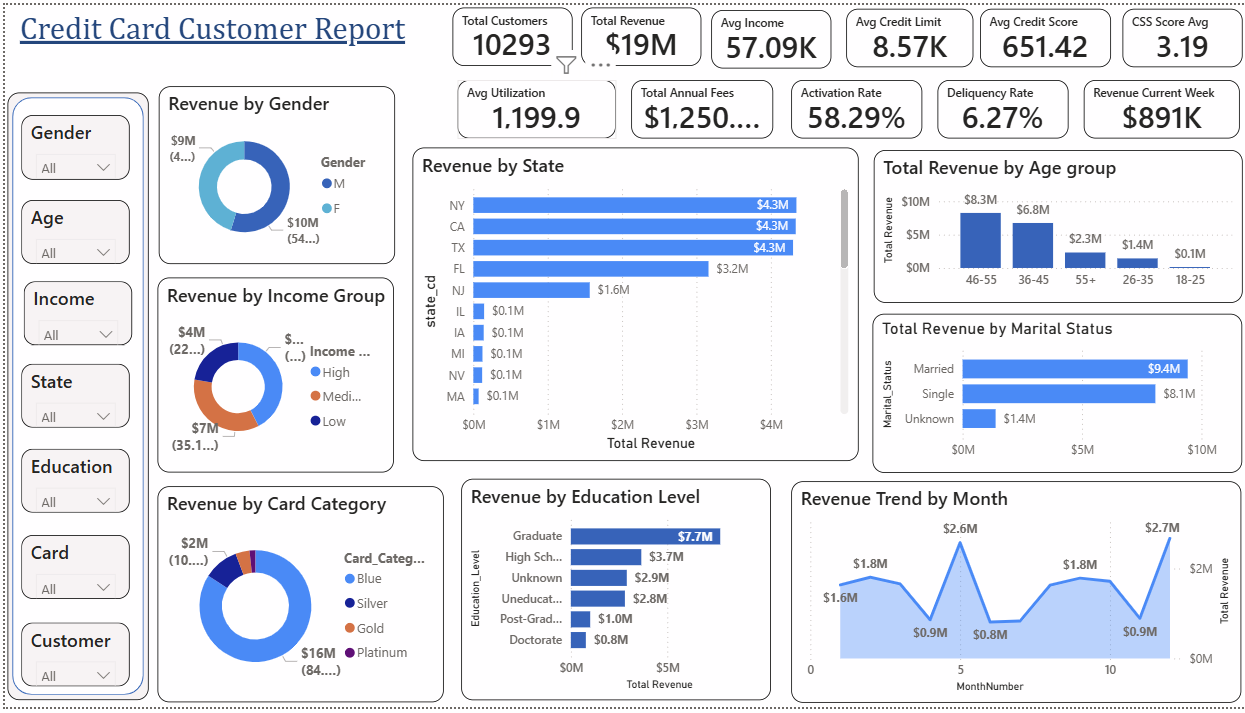

The dashboard page shown, as its layout file describes it:
{"tool":"powerbi","page":{"name":"Customer Report","canvas":[1280,720],"ordinal":0},"visuals":[{"type":"shape","box":[2.6,89.7,144.9,623.1],"z":0},{"type":"textbox","box":[10.3,0,529.5,65.4],"z":1000},{"type":"slicer","title":"Gender","fields":{"Values":["customer.Gender"]},"box":[16.7,112.8,111.5,66.7],"z":2000},{"type":"slicer","title":"Age ","fields":{"Values":["customer.Age group "]},"box":[16.7,200,111.5,65.4],"z":3000},{"type":"slicer","title":"Income","fields":{"Values":["customer.Income Group"]},"box":[19.2,283.3,111.5,65.4],"z":4000},{"type":"slicer","title":"State","fields":{"Values":["customer.state_cd"]},"box":[16.7,367.9,111.5,65.4],"z":5000},{"type":"slicer","title":"Education","fields":{"Values":["customer.Education_Level"]},"box":[16.7,455.1,111.5,65.4],"z":6000},{"type":"slicer","title":"Card","fields":{"Values":["CreditCard.Card_Category"]},"box":[16.7,543.6,111.5,65.4],"z":7000},{"type":"slicer","title":"Customer","fields":{"Values":["customer.Customer_Job"]},"box":[16.7,633.3,111.5,65.4],"z":8000},{"type":"card","title":"Total Customers","fields":{"Values":["CreditCard.total customers"]},"box":[459,2.6,123.1,60.3],"z":9000},{"type":"card","title":"Total Revenue","fields":{"Values":["CreditCard.Total Revenue"]},"box":[591,2.6,123.1,60.3],"z":10000},{"type":"card","title":"Avg Income","fields":{"Values":["Calendar.Average Income"]},"box":[724.4,5.1,123.1,60.3],"z":11000},{"type":"card","title":"Avg Credit Limit","fields":{"Values":["Calendar.Average Credit Limit"]},"box":[862.8,3.8,130.8,60.3],"z":12000},{"type":"card","title":"CSS Score Avg","fields":{"Values":["Calendar.CSS Score Average"]},"box":[1146.2,3.8,123.1,60.3],"z":13000},{"type":"card","title":"Avg Utilization","fields":{"Values":["Sum(CreditCard.Avg_Utilization_Ratio)"]},"box":[464.7,77,162.6,59.9],"z":14000},{"type":"card","title":"Avg Credit Score","fields":{"Values":["Calendar.Average Credit Score"]},"box":[1000,3.8,134.6,60.3],"z":15000},{"type":"card","title":"Total Annual Fees","fields":{"Values":["Sum(CreditCard.Annual_Fees)"]},"box":[642,77,145.5,59.9],"z":16000},{"type":"card","title":"Activation Rate","fields":{"Values":["Calendar.Activation Rate"]},"box":[805.8,77,134.5,59.9],"z":17000},{"type":"card","title":"Deliquency Rate","fields":{"Values":["Calendar.Delinquency Rate"]},"box":[956.3,77,134.5,59.9],"z":18000},{"type":"card","title":" Revenue Current Week","fields":{"Values":["Calendar.Revenue current week"]},"box":[1106.7,77,160.2,59.9],"z":19000},{"type":"donutChart","title":" Revenue by Gender","fields":{"Category":["customer.Gender"],"Y":["CreditCard.Total Revenue"]},"box":[157.7,83.3,242.3,182.1],"z":20000},{"type":"clusteredColumnChart","fields":{"Category":["customer.Age group "],"Y":["CreditCard.Total Revenue"]},"box":[891,148.7,378.2,156.4],"z":21000},{"type":"donutChart","title":"Revenue by Income Group","fields":{"Y":["CreditCard.Total Revenue"],"Category":["customer.Income Group"]},"box":[156.4,279.5,242.3,200],"z":22000},{"type":"clusteredBarChart","title":"Revenue by State","fields":{"Y":["CreditCard.Total Revenue"],"Category":["customer.state_cd"]},"box":[418.2,146.7,457.3,321.6],"z":23000},{"type":"clusteredBarChart","title":"Total Revenue by Marital Status","fields":{"Category":["customer.Marital_Status"],"Y":["CreditCard.Total Revenue"]},"box":[889.7,316.7,379.5,162.8],"z":24000},{"type":"donutChart","title":"Revenue by Card Category","fields":{"Category":["CreditCard.Card_Category"],"Y":["CreditCard.Total Revenue"]},"box":[156.4,493.6,293.6,221.8],"z":25000},{"type":"barChart","title":"Revenue by Education Level","fields":{"Y":["CreditCard.Total Revenue"],"Category":["customer.Education_Level"]},"box":[467.9,485.9,317.9,226.9],"z":26000},{"type":"lineChart","title":"Revenue Trend by Month","fields":{"Category":["Calendar.MonthNumber"],"Y2":["CreditCard.Total Revenue"]},"box":[806.4,488.5,461.5,226.9],"z":27000}]}

Visuals, with their boxes in screenshot pixels (x1, y1, x2, y2), scaled from the page's 1280x720 canvas onto the 1245x713 screenshot:
shape: x1=3 y1=89 x2=143 y2=706
textbox: x1=10 y1=0 x2=525 y2=65
"Gender" slicer: x1=16 y1=112 x2=125 y2=178
"Age " slicer: x1=16 y1=198 x2=125 y2=263
"Income" slicer: x1=19 y1=281 x2=127 y2=345
"State" slicer: x1=16 y1=364 x2=125 y2=429
"Education" slicer: x1=16 y1=451 x2=125 y2=515
"Card" slicer: x1=16 y1=538 x2=125 y2=603
"Customer" slicer: x1=16 y1=627 x2=125 y2=692
"Total Customers" card: x1=446 y1=3 x2=566 y2=62
"Total Revenue" card: x1=575 y1=3 x2=695 y2=62
"Avg Income" card: x1=705 y1=5 x2=824 y2=65
"Avg Credit Limit" card: x1=839 y1=4 x2=966 y2=63
"CSS Score Avg" card: x1=1115 y1=4 x2=1235 y2=63
"Avg Utilization" card: x1=452 y1=76 x2=610 y2=136
"Avg Credit Score" card: x1=973 y1=4 x2=1104 y2=63
"Total Annual Fees" card: x1=624 y1=76 x2=766 y2=136
"Activation Rate" card: x1=784 y1=76 x2=915 y2=136
"Deliquency Rate" card: x1=930 y1=76 x2=1061 y2=136
" Revenue Current Week" card: x1=1076 y1=76 x2=1232 y2=136
" Revenue by Gender" donutChart: x1=153 y1=82 x2=389 y2=263
clusteredColumnChart - customer.Age group  x CreditCard.Total Revenue: x1=867 y1=147 x2=1234 y2=302
"Revenue by Income Group" donutChart: x1=152 y1=277 x2=388 y2=475
"Revenue by State" clusteredBarChart: x1=407 y1=145 x2=852 y2=464
"Total Revenue by Marital Status" clusteredBarChart: x1=865 y1=314 x2=1234 y2=475
"Revenue by Card Category" donutChart: x1=152 y1=489 x2=438 y2=708
"Revenue by Education Level" barChart: x1=455 y1=481 x2=764 y2=706
"Revenue Trend by Month" lineChart: x1=784 y1=484 x2=1233 y2=708
